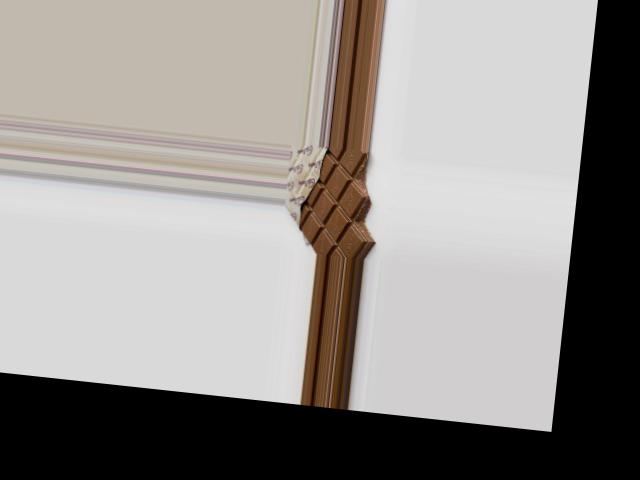chocolate: (280, 142, 376, 258)
